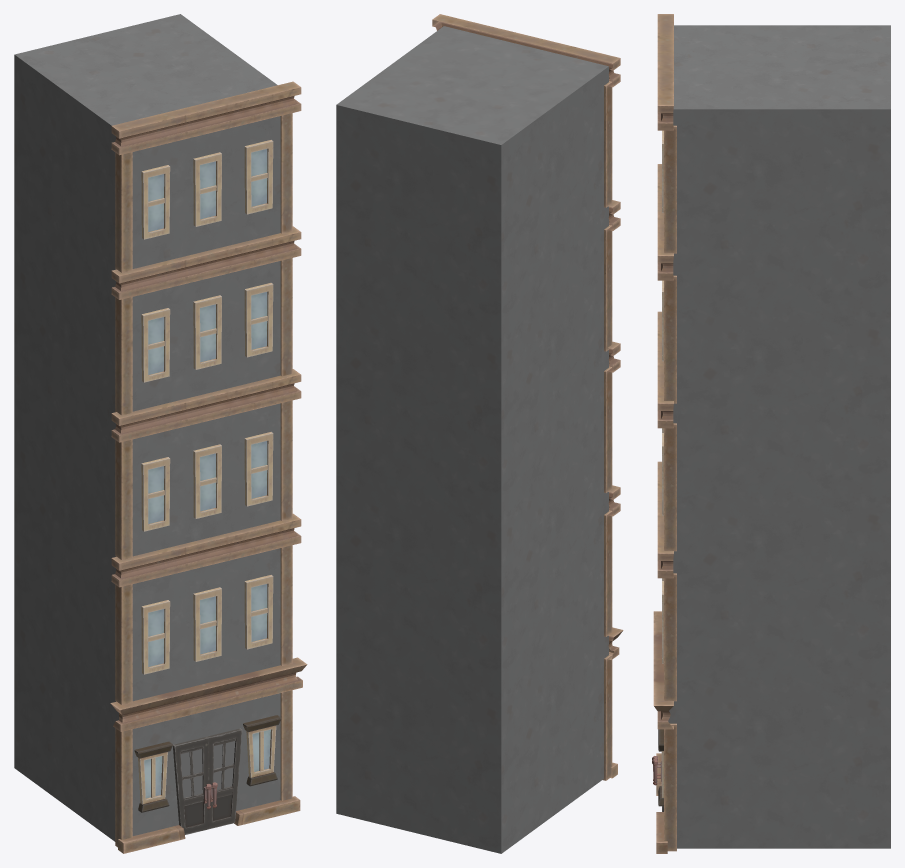
File: Ev_Tallbuilding_3.fbx
3 views of the same model, side by side, from view 1: azimuth 30°, elevation 25°; view 2: azimuth 150°, elevation 25°; view 3: azimuth 270°, elevation 25° (orthographic). The views are drawn at different scales.
Visible parts, largest first — view 1: Object059, Object062, Object063, Object064, Object061, P_Frame_082, P_Doubledoor_004, P_Frame_078, P_Frame_081, P_Frame_079, P_Frame_080, P_framelong_015 (+24 smaller); view 2: Object059, Object062, Object064, Object063, Object061, P_Frame_082, P_framelong_013, P_framelong_015, P_framelong_021, P_framelong_017, P_framelong_019; view 3: Object059, Object062, Object064, Object063, Object061, P_Frame_082, P_framelong_020, P_framelong_014, P_framelong_016, P_framelong_018, P_framelong_012, P_Frame_078 (+4 smaller).
Boxes of the visible parts, box(x1,y1,x2,y2) form: Object059: box(14, 14, 280, 276); Object062: box(14, 491, 280, 704); Object063: box(14, 349, 280, 561); Object064: box(14, 206, 280, 419); Object061: box(14, 634, 280, 841); P_Frame_082: box(111, 81, 301, 155); P_Doubledoor_004: box(173, 728, 242, 834); P_Frame_078: box(110, 657, 307, 731); P_Frame_081: box(111, 226, 301, 299); P_Frame_079: box(111, 513, 301, 587); P_Frame_080: box(111, 369, 301, 442); P_framelong_015: box(115, 584, 132, 704); Object059: box(336, 26, 608, 295); Object062: box(336, 500, 608, 720); Object064: box(336, 217, 608, 436); Object063: box(336, 358, 608, 578); Object061: box(336, 642, 608, 853); P_Frame_082: box(432, 14, 620, 87); P_framelong_013: box(603, 654, 612, 780); P_framelong_015: box(604, 510, 612, 636); P_framelong_021: box(604, 81, 612, 207); P_framelong_017: box(604, 366, 612, 492); P_framelong_019: box(604, 225, 612, 351); Object059: box(673, 25, 890, 265); Object062: box(670, 561, 890, 709); Object064: box(673, 266, 890, 413); Object063: box(673, 414, 890, 561); Object061: box(668, 709, 890, 848); P_Frame_082: box(657, 14, 673, 130); P_framelong_020: box(664, 125, 676, 253); P_framelong_014: box(664, 573, 676, 701); P_framelong_016: box(664, 423, 676, 551); P_framelong_018: box(664, 275, 676, 403); P_framelong_012: box(664, 723, 676, 851); P_Frame_078: box(653, 611, 673, 729).
Bounding box in the file's own units: 28.8 × 106 × 30.64.
